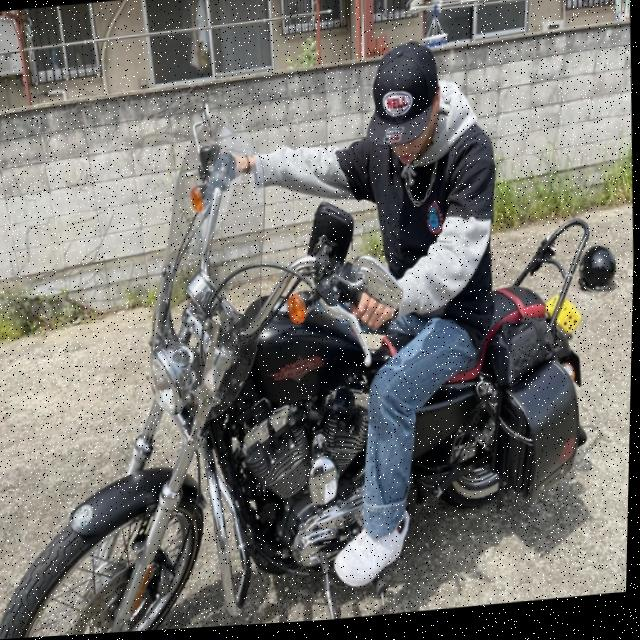illegal_helmet: (360, 41, 449, 181)
